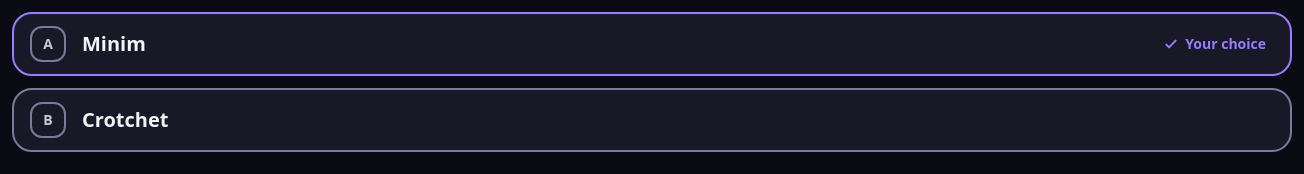
Scenario: multiple-choice › shows the restored option as selected without marking, and reports changes
What coordinates should you click on to do the following:
click the button "B Crotchet"
I would click on:
 (48, 120)
Its box is [12,88,1292,152].
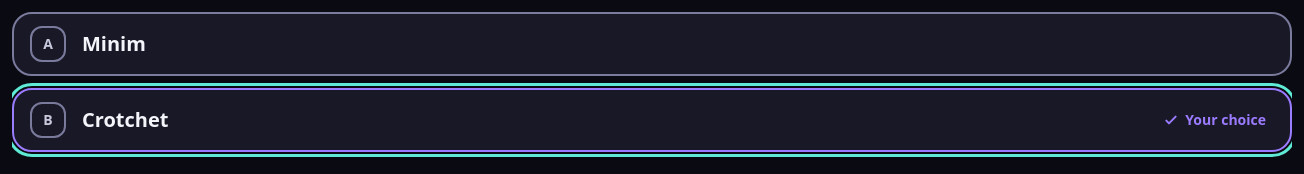
Check: the button "A Minim" has attribute data-state="idle", box [12,12,1292,76]
